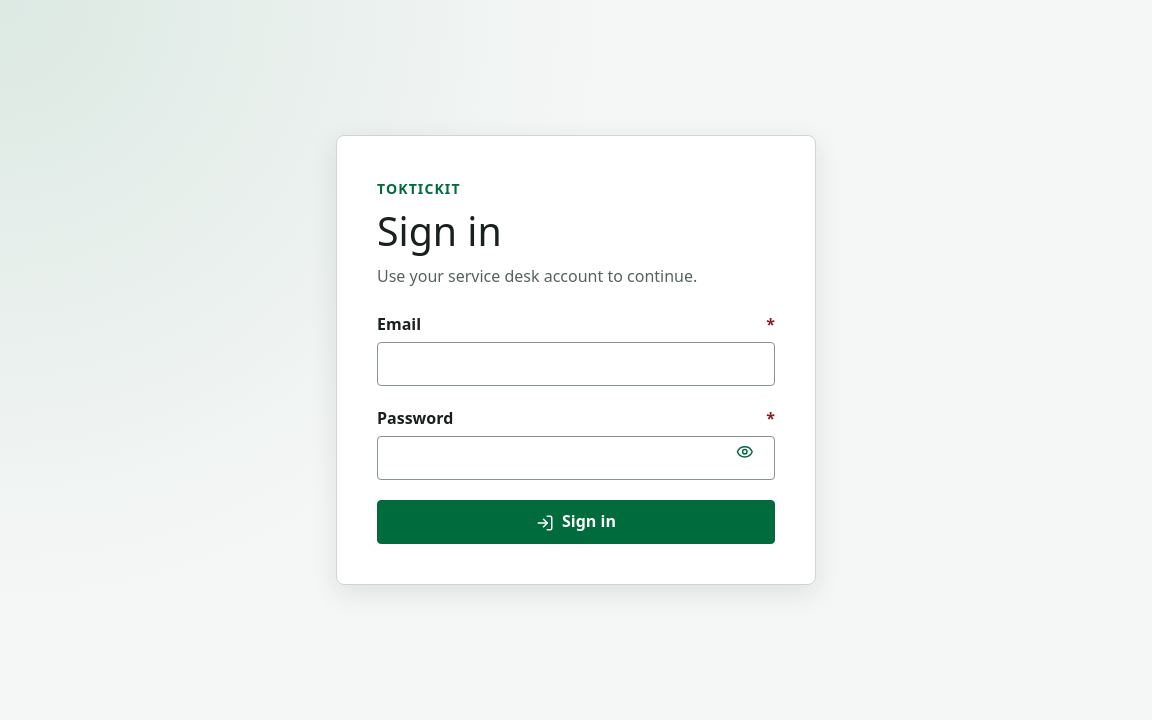
Test: Lab 3 authentication UI › routes a successful login to the home for the authenticated role
This screenshot has width=1152, height=720.
Type "suda.staff@example.test" into the field labelled "Email *" at (576, 364), box [377,342,775,386]
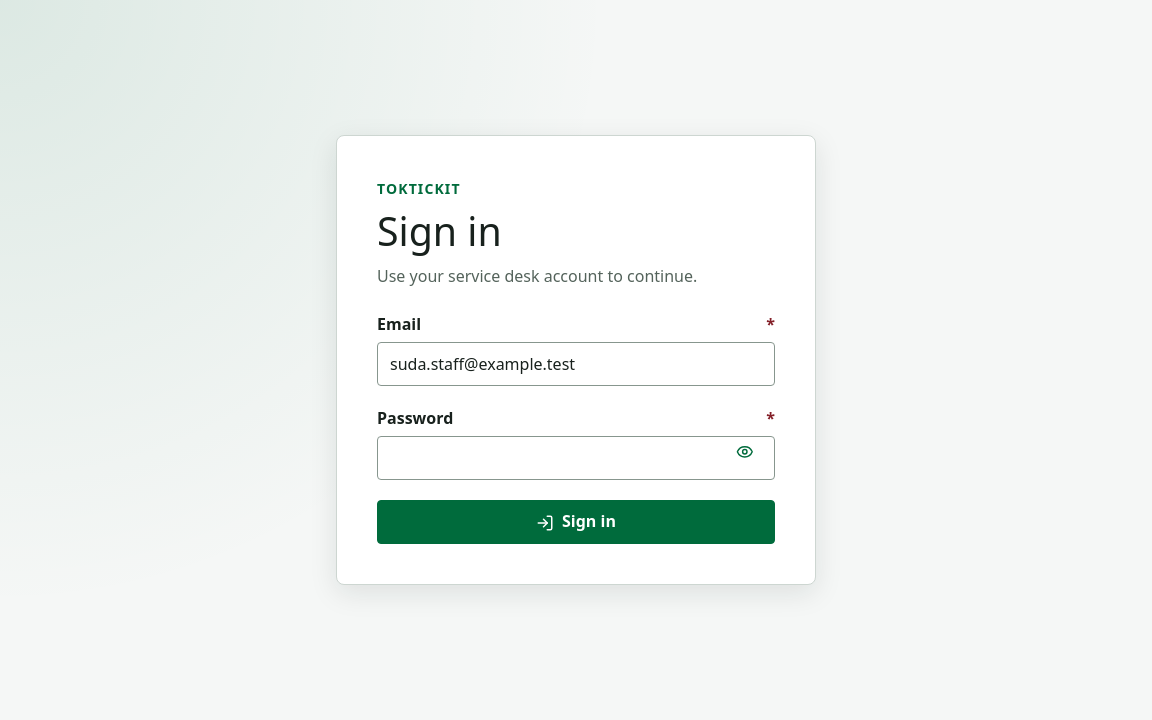
Type "correct horse battery staple" into the password field labelled "Password *" at (576, 458), box [377,436,775,480]
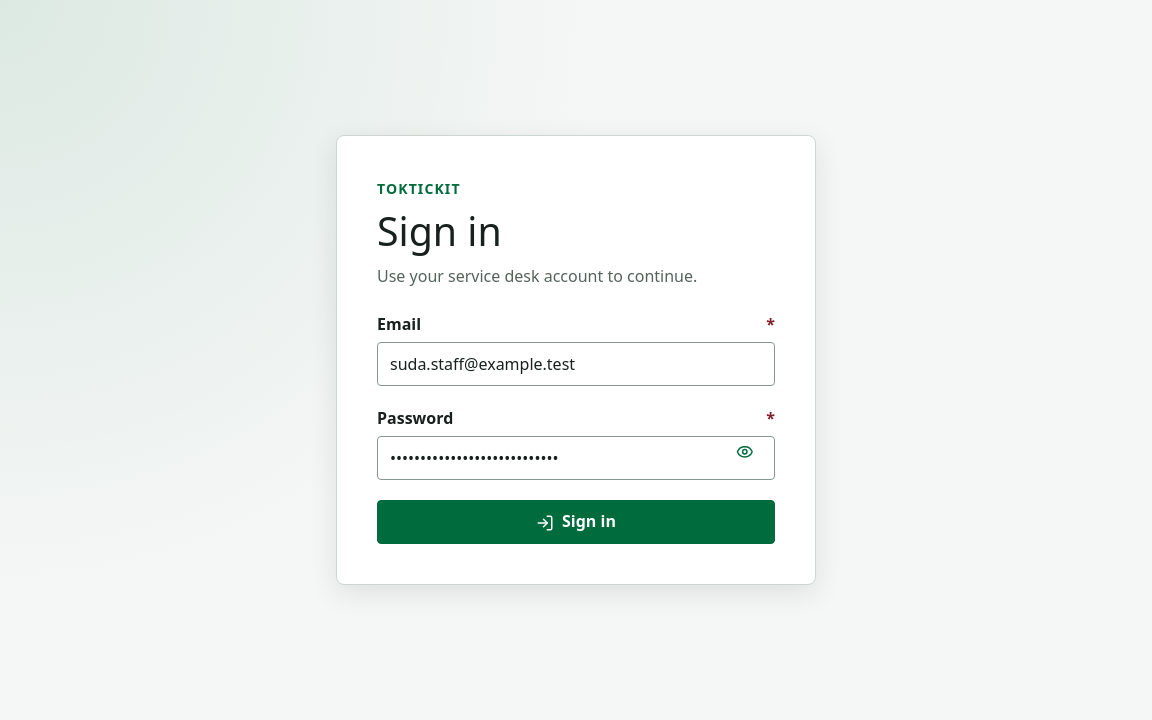
Click the button "Sign in" at (576, 522), box [377,500,775,544]
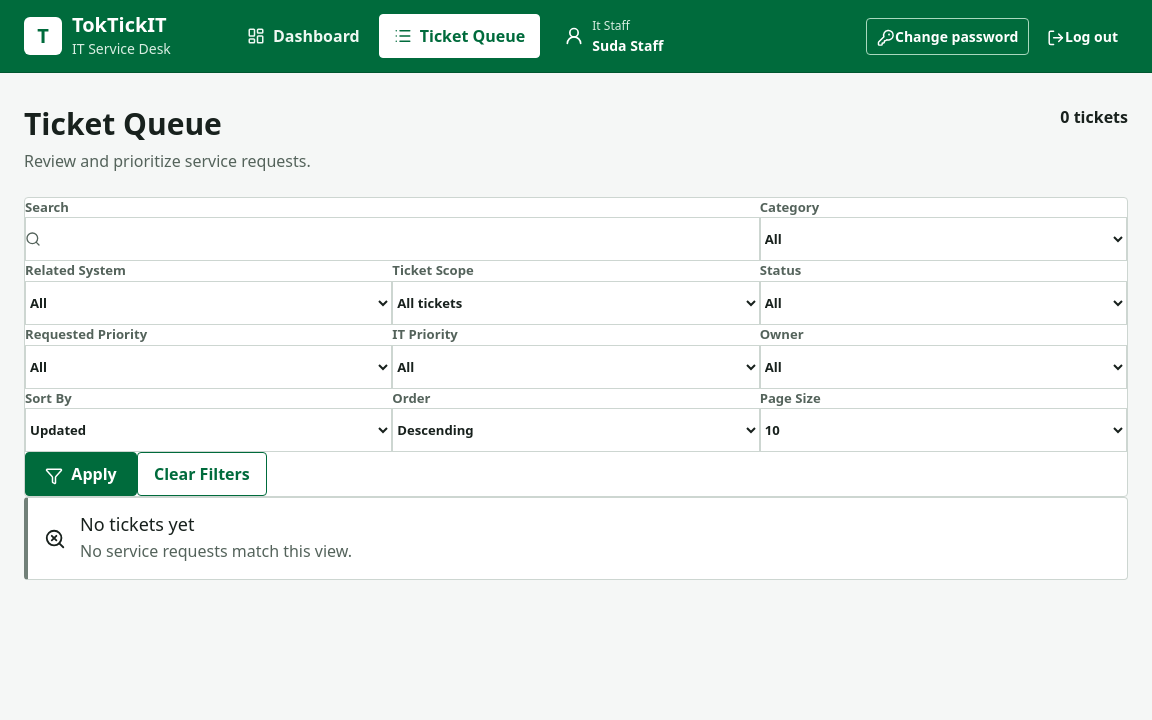
Expected: the heading "Ticket Queue" is shown, [24,103,222,144]
Expected: the heading "No tickets yet" is shown, [80,512,194,536]
